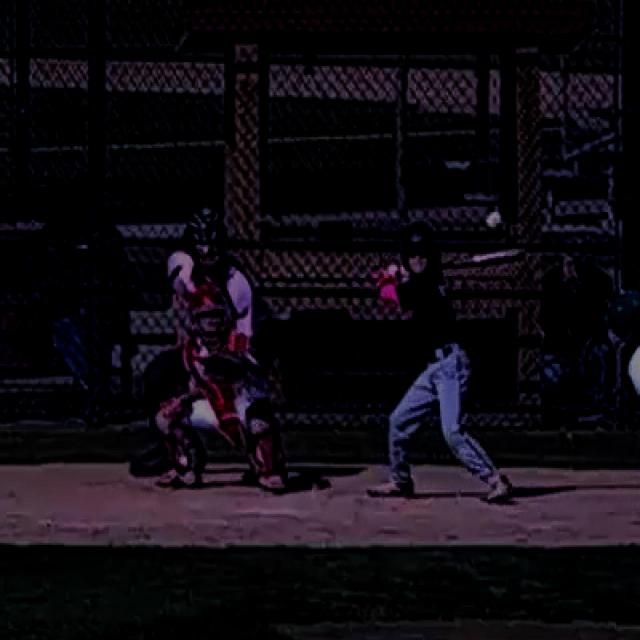baseball: (485, 212, 502, 228)
